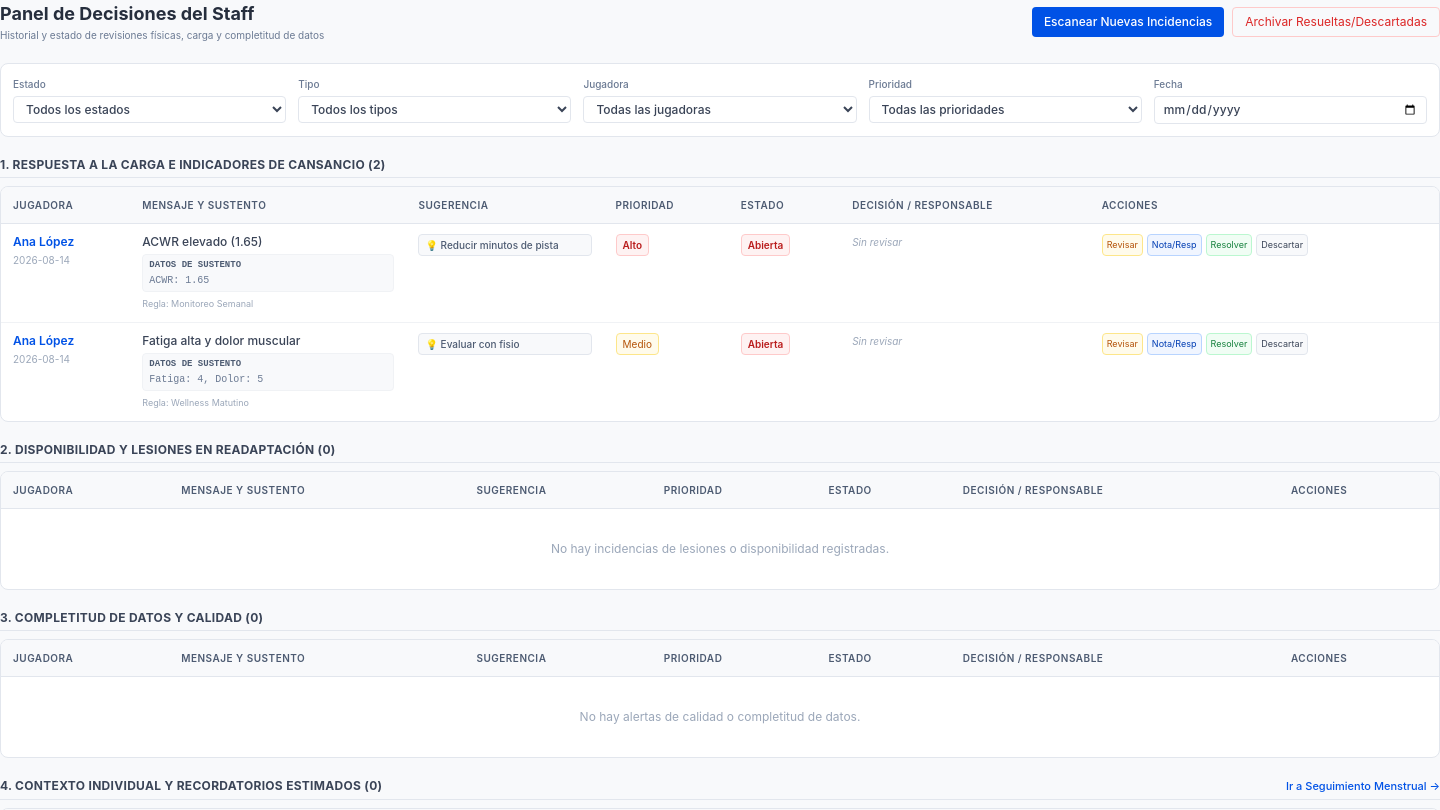
AlertsPage - Resolución y Descarte de Alertas con Motivo Opcional (PR-2) › 1. Resolver alerta abre modal con requireReason={false} y muestra que la nota es opcional
Click the button "Resolver" in the row of "ACWR elevado (1.65)" at (1229, 245), box [1206,234,1252,256]
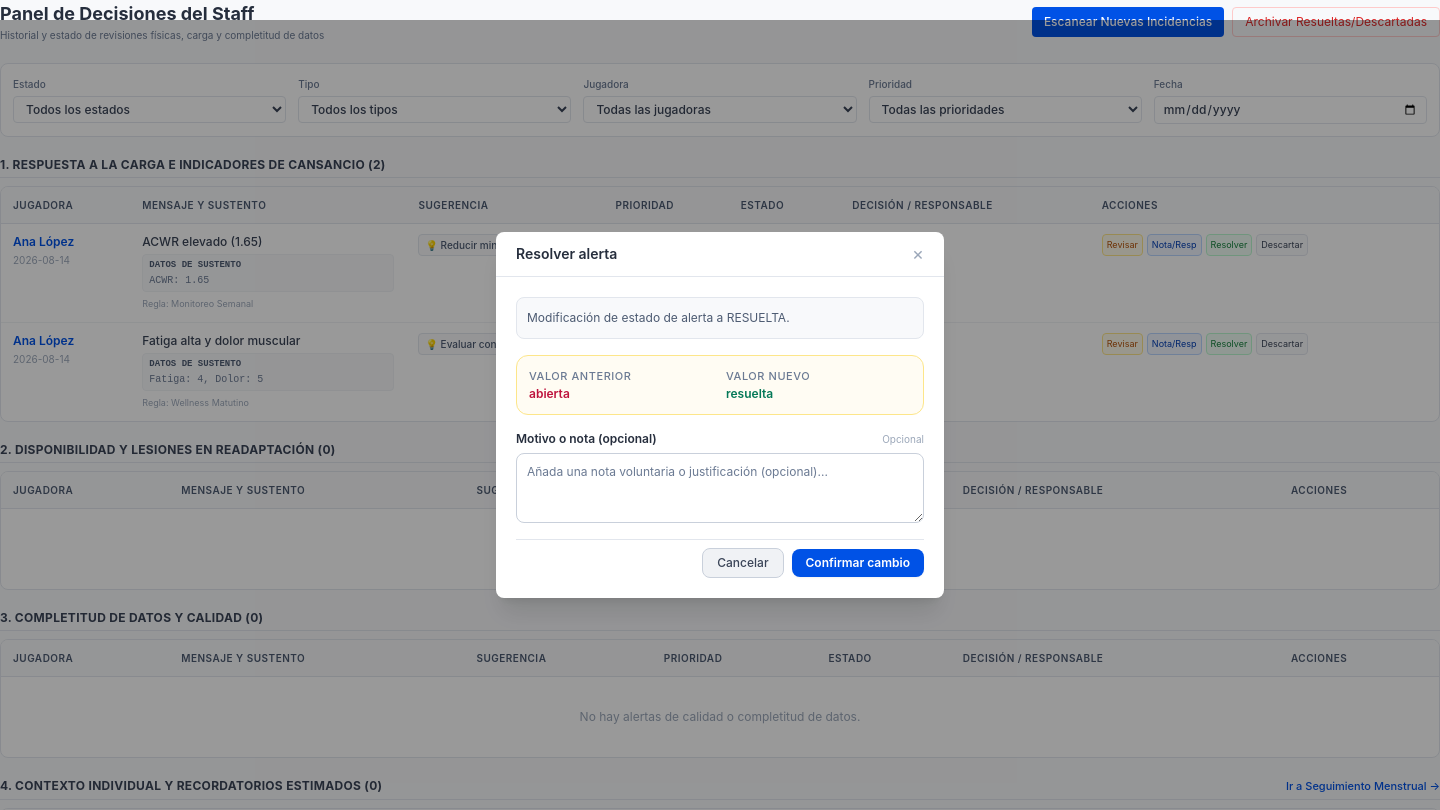
Expected: the heading "Resolver alerta" is shown, [516,244,617,264]
Expected: the text "Motivo o nota (opcional)" is shown, [516,431,657,447]
